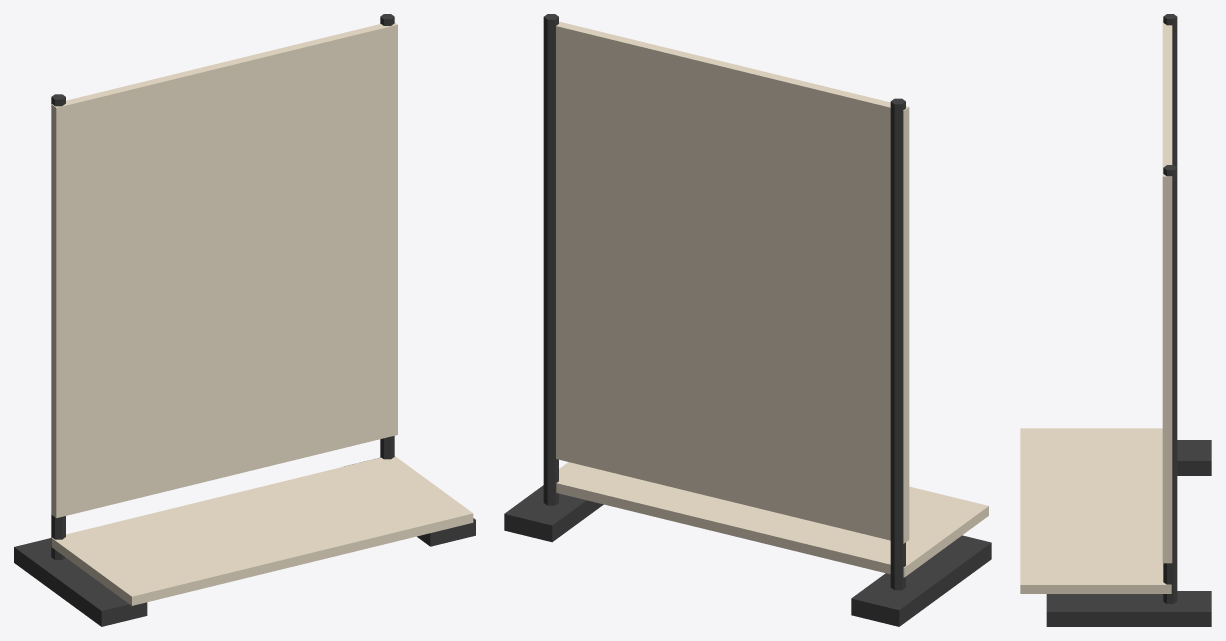
3 renders of one model, left to right at view 1: azimuth 30°, elevation 25°; view 2: azimuth 150°, elevation 25°; view 3: azimuth 270°, elevation 25°, orthographic. The views are drawn at different scales.
Visible parts, largest first — view 1: Seamless backdrop, Backdrop sweep, Backdrop foot, Backdrop foot.001, Backdrop support; view 2: Seamless backdrop, Backdrop sweep, Backdrop support, Backdrop support.001, Backdrop foot, Backdrop foot.001; view 3: Backdrop sweep, Seamless backdrop, Backdrop foot.001, Backdrop support.001, Backdrop foot, Backdrop support.
Part boxes in pixels (x1,y1,x2,y2): Seamless backdrop: (51, 22, 397, 517); Backdrop sweep: (51, 456, 473, 605); Backdrop foot: (14, 538, 147, 626); Backdrop foot.001: (344, 457, 475, 546); Backdrop support: (51, 94, 65, 559); Seamless backdrop: (556, 21, 909, 543); Backdrop sweep: (556, 462, 988, 577); Backdrop support: (890, 98, 905, 590); Backdrop support.001: (543, 14, 558, 505); Backdrop foot: (851, 535, 991, 626); Backdrop foot.001: (504, 485, 603, 542); Backdrop sweep: (1020, 428, 1171, 593); Seamless backdrop: (1162, 20, 1172, 563); Backdrop foot.001: (1046, 591, 1211, 626); Backdrop support.001: (1163, 165, 1177, 603); Backdrop foot: (1177, 440, 1211, 475); Backdrop support: (1163, 14, 1177, 167).
Bounding box in the file's own units: 1.48 × 1.8 × 0.695.
Materials: 1 (1 with a texture image).
